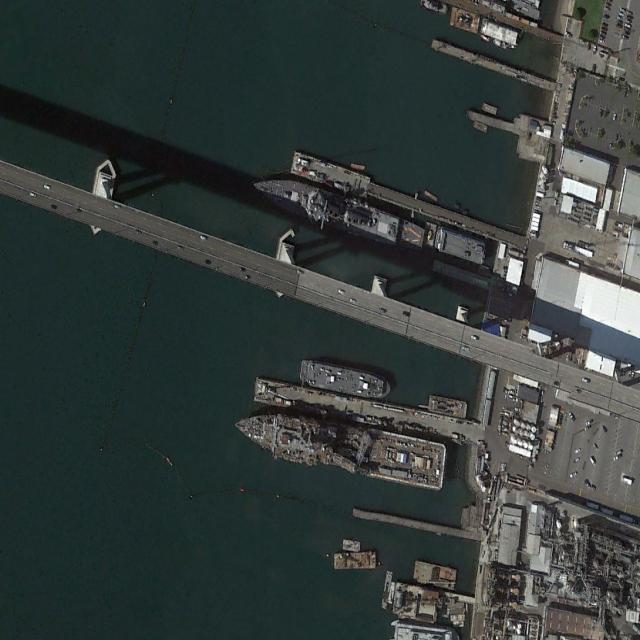Destroyer: (250, 168, 427, 253)
Landing: (231, 399, 448, 492)
Other Ship: (298, 357, 392, 403)
